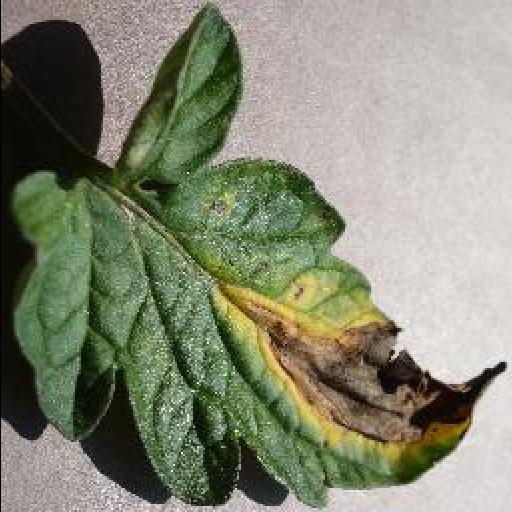disease_tomato: (10, 10, 510, 507)
